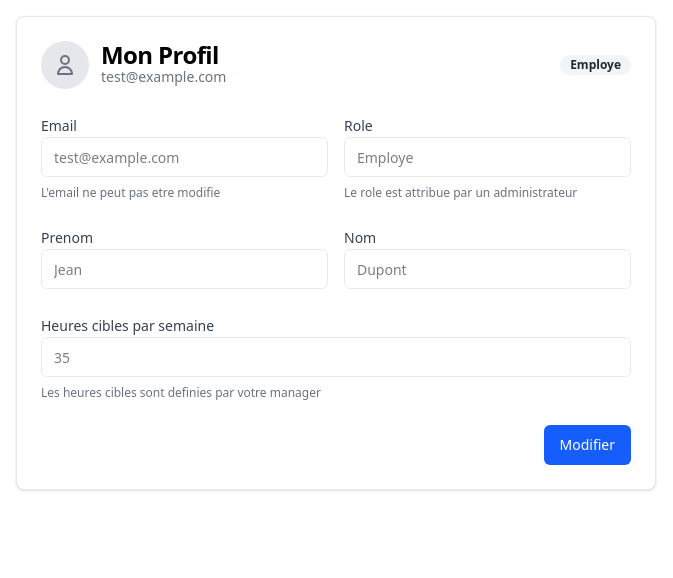
Scenario: ProfilePage › Profile Update - AC3 › shows error message on update failure
This screenshot has width=673, height=578.
Expected: the heading "Mon Profil" is shown, [101,43,226,67]
What coordinates should you click on to do the following:
click the button "Modifier"
I would click on:
 (587, 445)
Its box is [544,425,631,465].
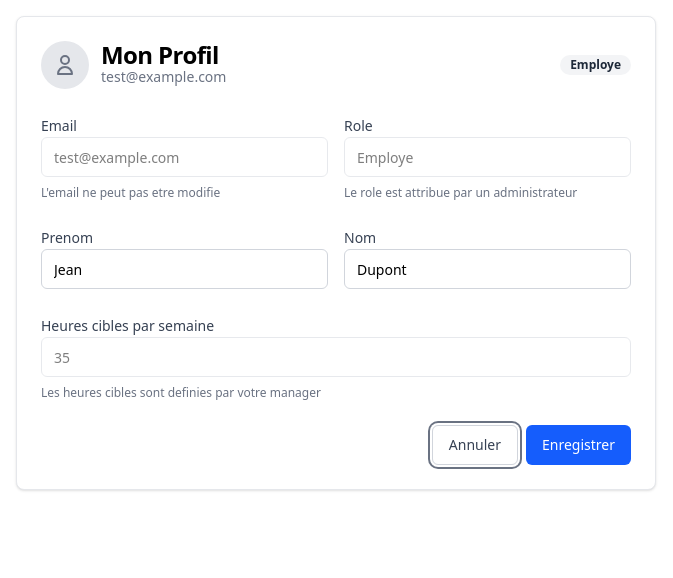
What coordinates should you click on to do the following:
click the button "Enregistrer"
I would click on:
 (578, 445)
Its box is [526,425,631,465].
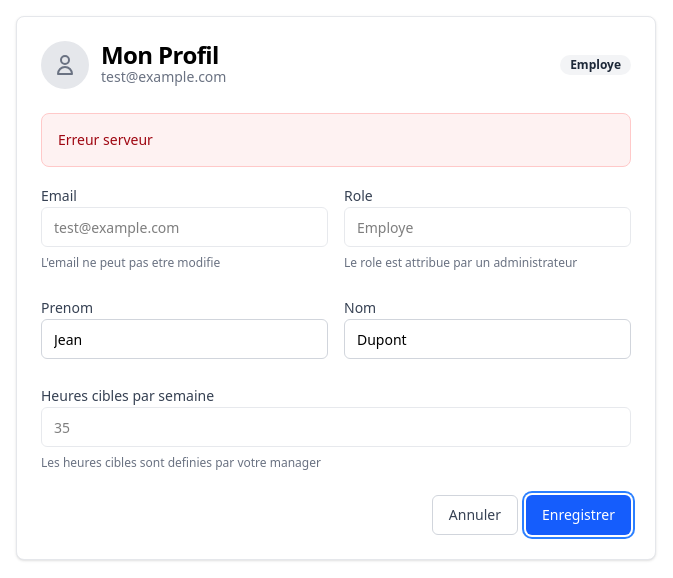
Now the text "Erreur serveur" is shown, box [58,130,153,149]
